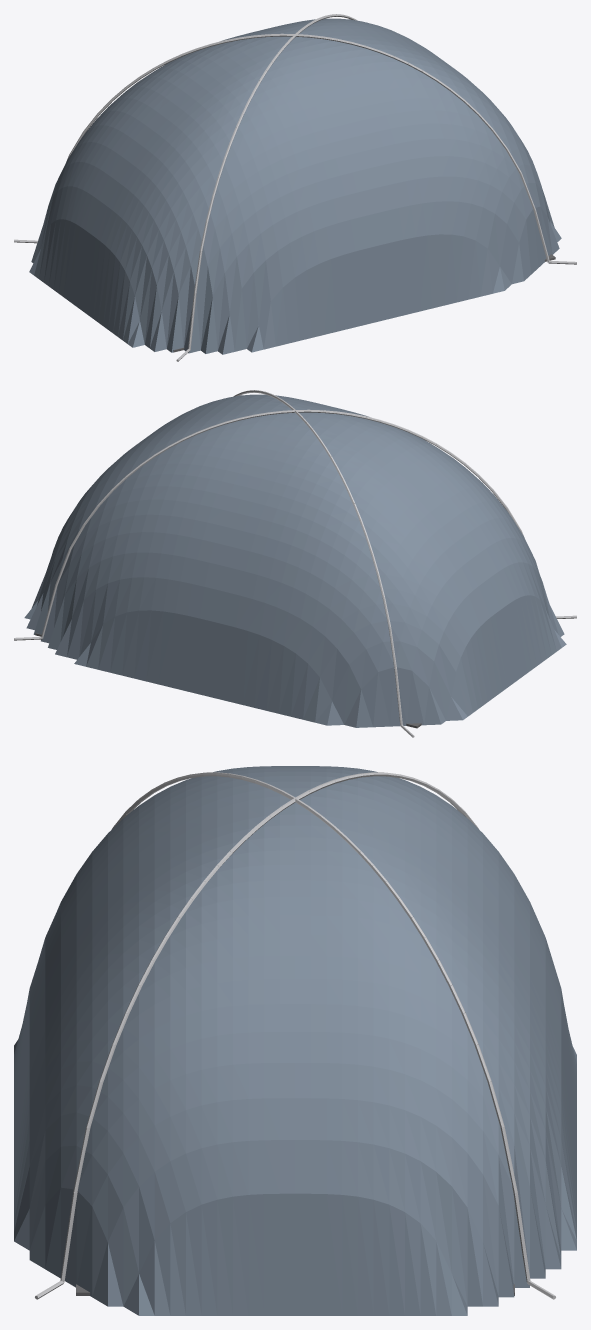
Rendered from g_tingwei.glb.
The picture shows the model from 3 angles, top to bottom: view 1: azimuth 30°, elevation 25°; view 2: azimuth 150°, elevation 25°; view 3: azimuth 270°, elevation 25°; orthographic projection. The views are drawn at different scales.
Visible parts, largest first — view 1: roof, door_front; view 2: roof, door_front; view 3: roof, door_front.
Part boxes in pixels (x1,y1,x2,y2): roof: (29, 18, 561, 354); door_front: (114, 26, 404, 105); roof: (24, 394, 566, 727); door_front: (74, 429, 412, 725); roof: (14, 766, 561, 1315); door_front: (342, 780, 576, 1250).
Bounding box in the file's own units: 2.2 × 1.07 × 1.56.
